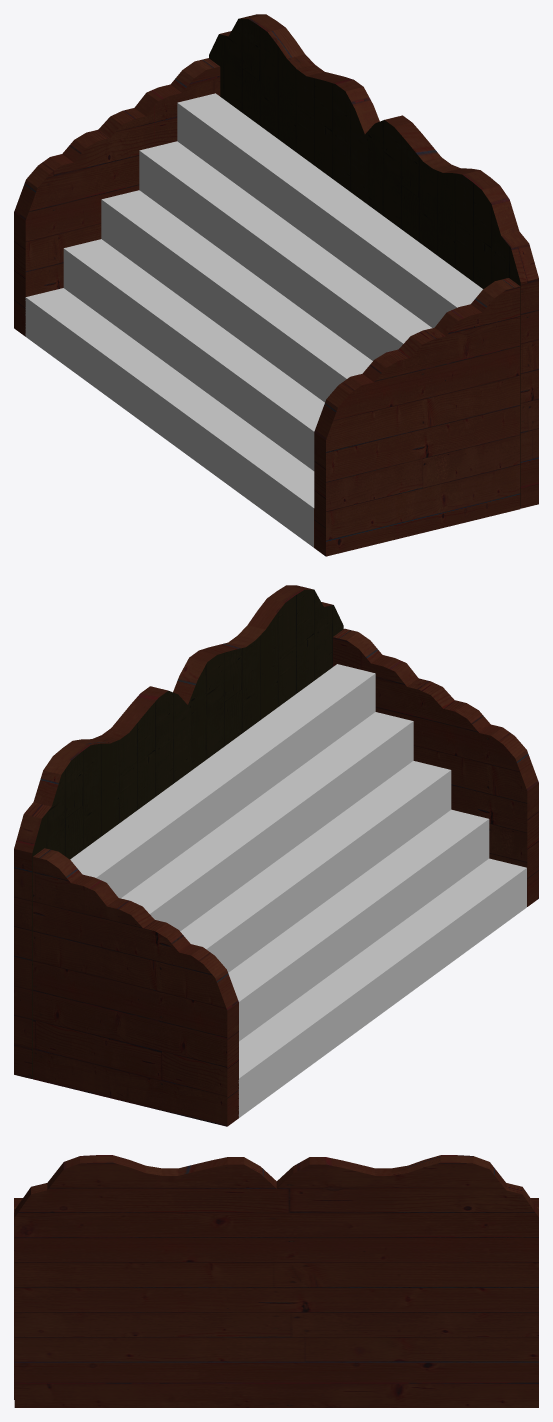
Rendered from escalera.fbx.
3 renders of one model, top to bottom at view 1: azimuth 30°, elevation 25°; view 2: azimuth 150°, elevation 25°; view 3: azimuth 270°, elevation 25°, orthographic. The views are drawn at different scales.
Visible parts, largest first — view 1: carreraCaballosEscaleras, carreraCaballosLados, carreraCaballosFondo; view 2: carreraCaballosEscaleras, carreraCaballosLados, carreraCaballosFondo; view 3: carreraCaballosLados.
Boxes of the visible parts, bbox=[...] form: carreraCaballosEscaleras: bbox=[25, 93, 482, 547]; carreraCaballosLados: bbox=[14, 14, 538, 556]; carreraCaballosFondo: bbox=[209, 18, 520, 508]; carreraCaballosEscaleras: bbox=[70, 664, 526, 1117]; carreraCaballosLados: bbox=[14, 585, 538, 1126]; carreraCaballosFondo: bbox=[32, 589, 343, 1078]; carreraCaballosLados: bbox=[14, 1155, 538, 1407].
Bounding box in the file's own units: 282 × 367 × 713.
